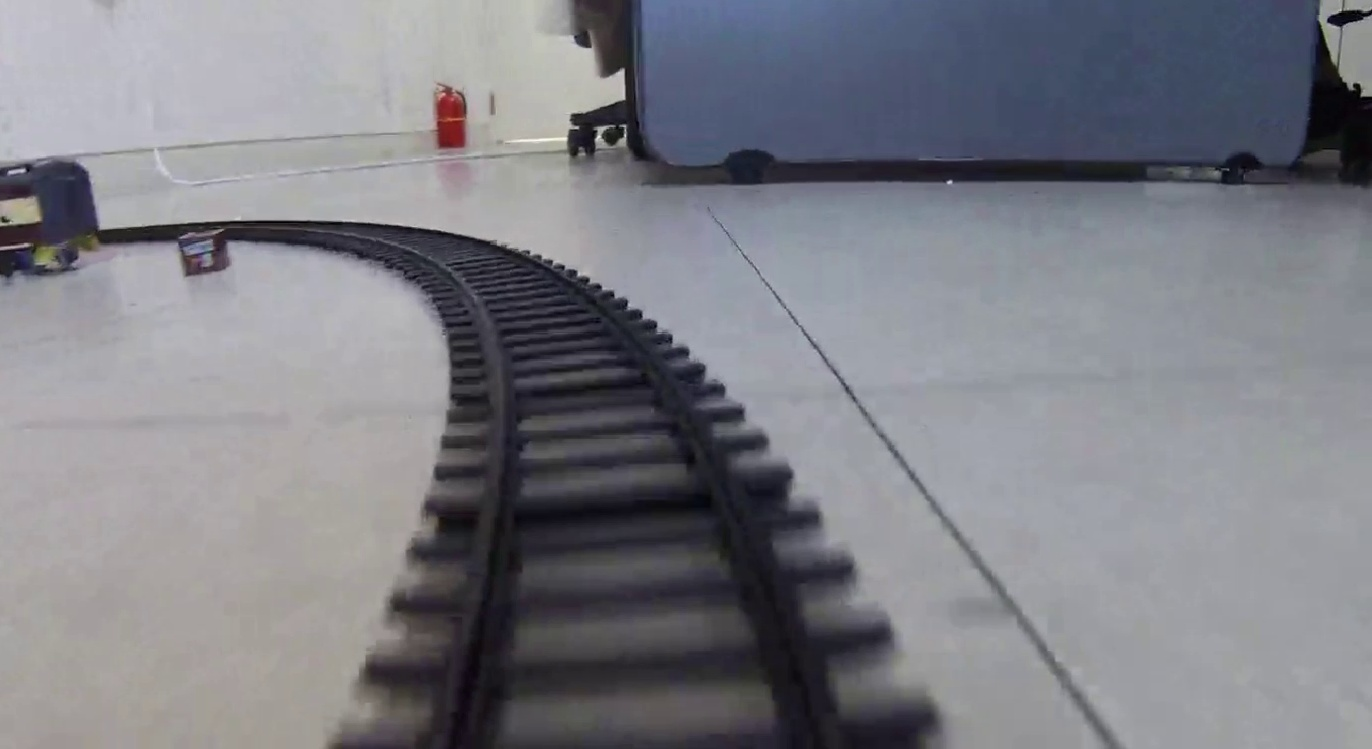box: (174, 228, 231, 276)
